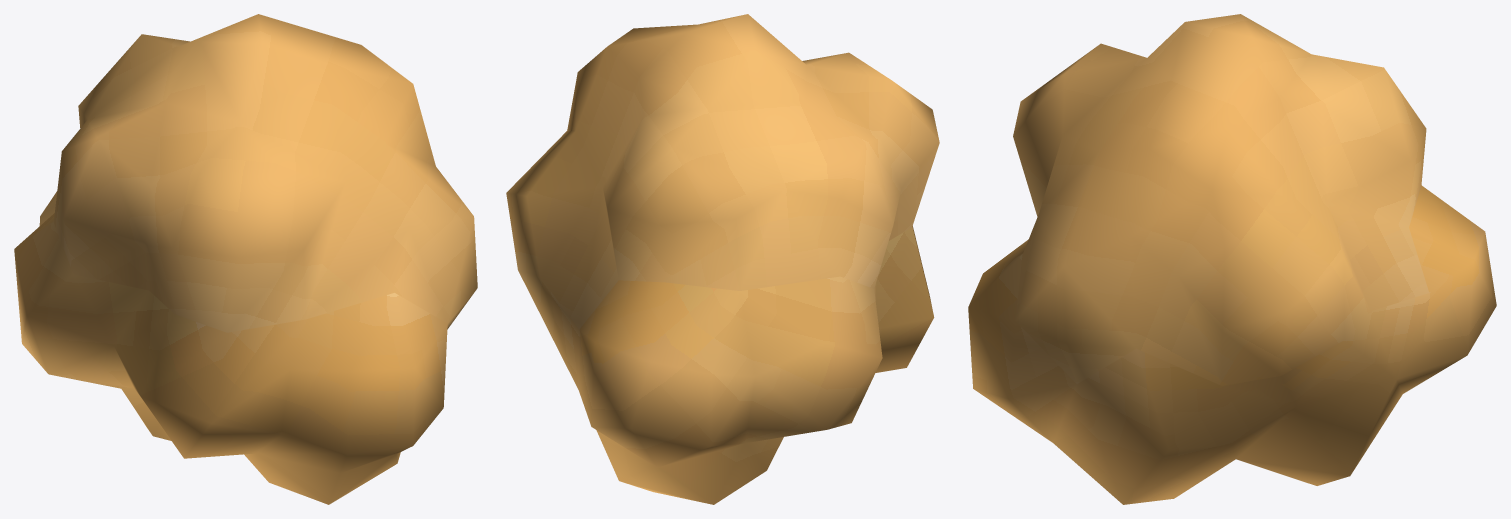
The model's file is Cloudberry.fbx.
3 views of the same model, side by side, from view 1: azimuth 30°, elevation 25°; view 2: azimuth 150°, elevation 25°; view 3: azimuth 270°, elevation 25° (orthographic). The views are drawn at different scales.
Parts seen in each view (by area): view 1: attach; view 2: attach; view 3: attach.
Boxes of the visible parts, <box> form: attach: <box>14,14,477,504</box>; attach: <box>506,14,939,504</box>; attach: <box>968,14,1496,504</box>.
Bounding box in the file's own units: 0.22 × 0.2475 × 0.2619.
Materials: 1 (1 with a texture image).
